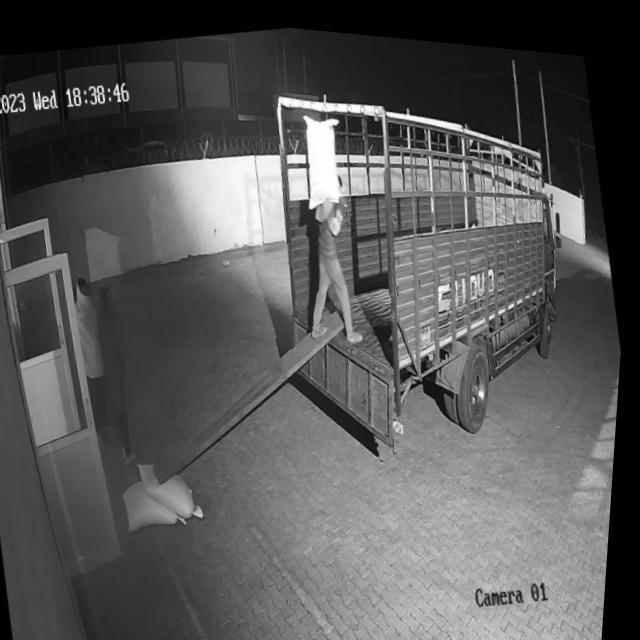sack: (293, 100, 356, 206), (140, 449, 215, 524), (125, 469, 194, 531)
